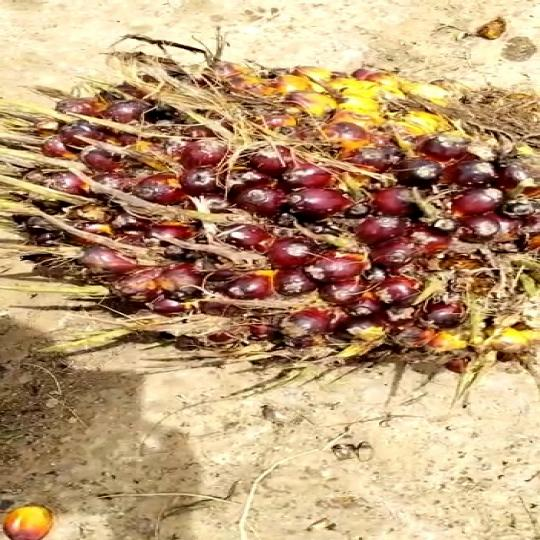kurang masak: (0, 56, 540, 373)
